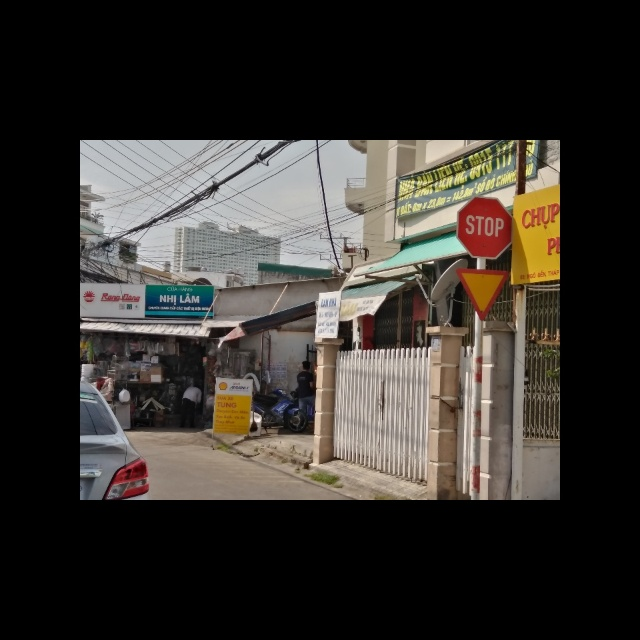Dừng lại: (457, 196, 512, 259)
Giao nhau với đường ưu tiên: (456, 267, 510, 321)
